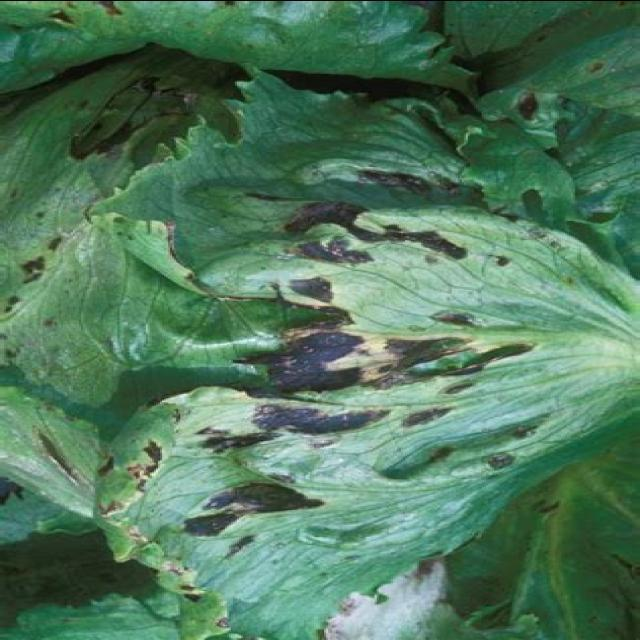Baby: (189, 199, 583, 534)
